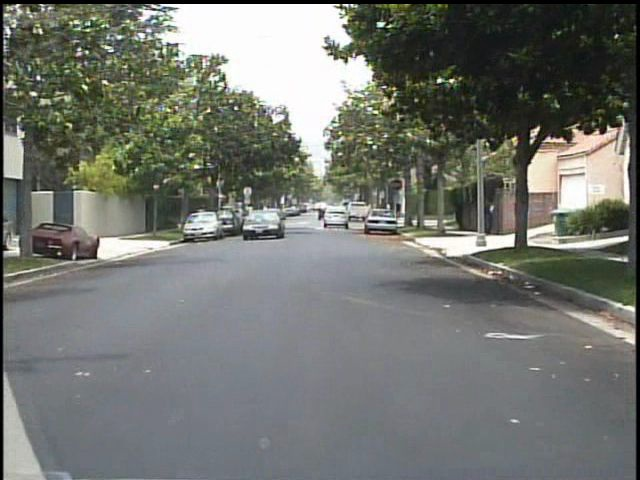person: (485, 192, 499, 237), (194, 202, 209, 232)
